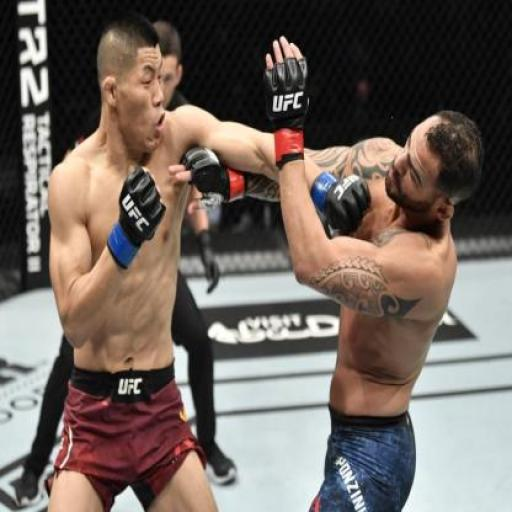Fighting: (45, 19, 482, 512)
